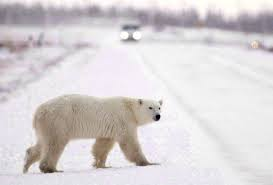PolarBear: (19, 92, 169, 176)
